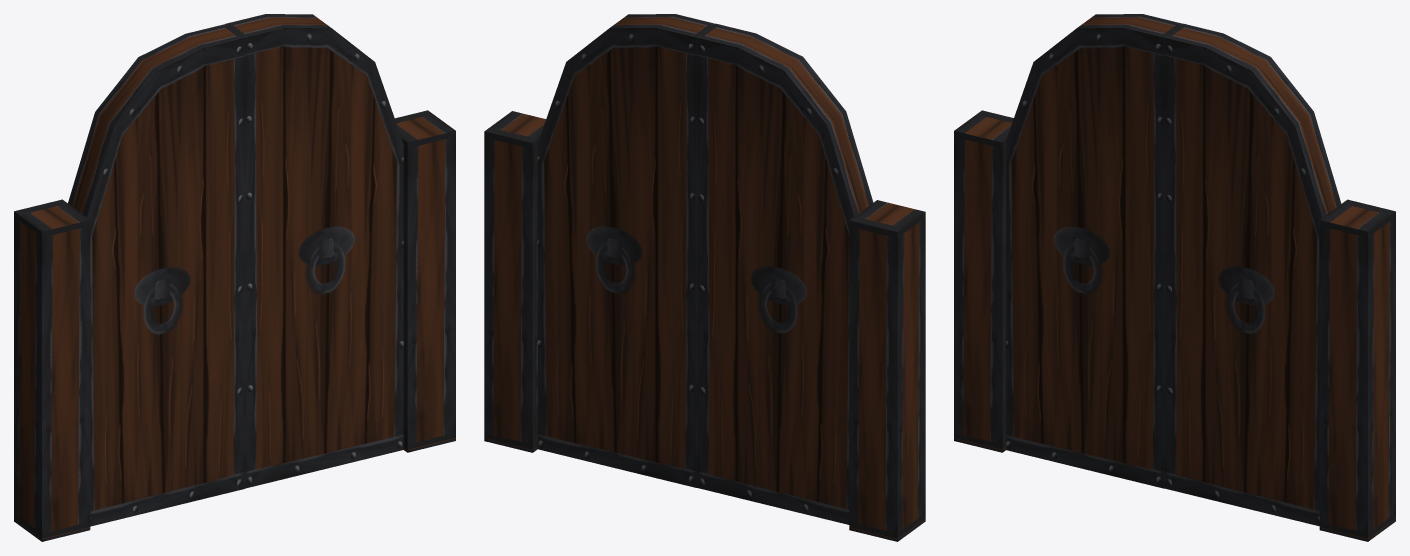
File: Door.FBX
The picture shows the model from 3 angles, left to right: view 1: azimuth 30°, elevation 25°; view 2: azimuth 150°, elevation 25°; view 3: azimuth 330°, elevation 25°; orthographic projection.
Parts seen in each view (by area): view 1: Box076, Box077, Box075; view 2: Box076, Box077, Box075; view 3: Box077, Box076, Box075.
Part boxes in pixels (x1=…): Box076: x1=68, y1=24, x2=244, y2=526; Box077: x1=225, y1=14, x2=403, y2=488; Box075: x1=14, y1=110, x2=455, y2=541; Box076: x1=697, y1=23, x2=873, y2=524; Box077: x1=537, y1=14, x2=714, y2=487; Box075: x1=484, y1=111, x2=925, y2=541; Box077: x1=1164, y1=23, x2=1341, y2=526; Box076: x1=1006, y1=14, x2=1182, y2=488; Box075: x1=954, y1=110, x2=1395, y2=541.
Size of the model in its own units: 428 by 445 by 50.
